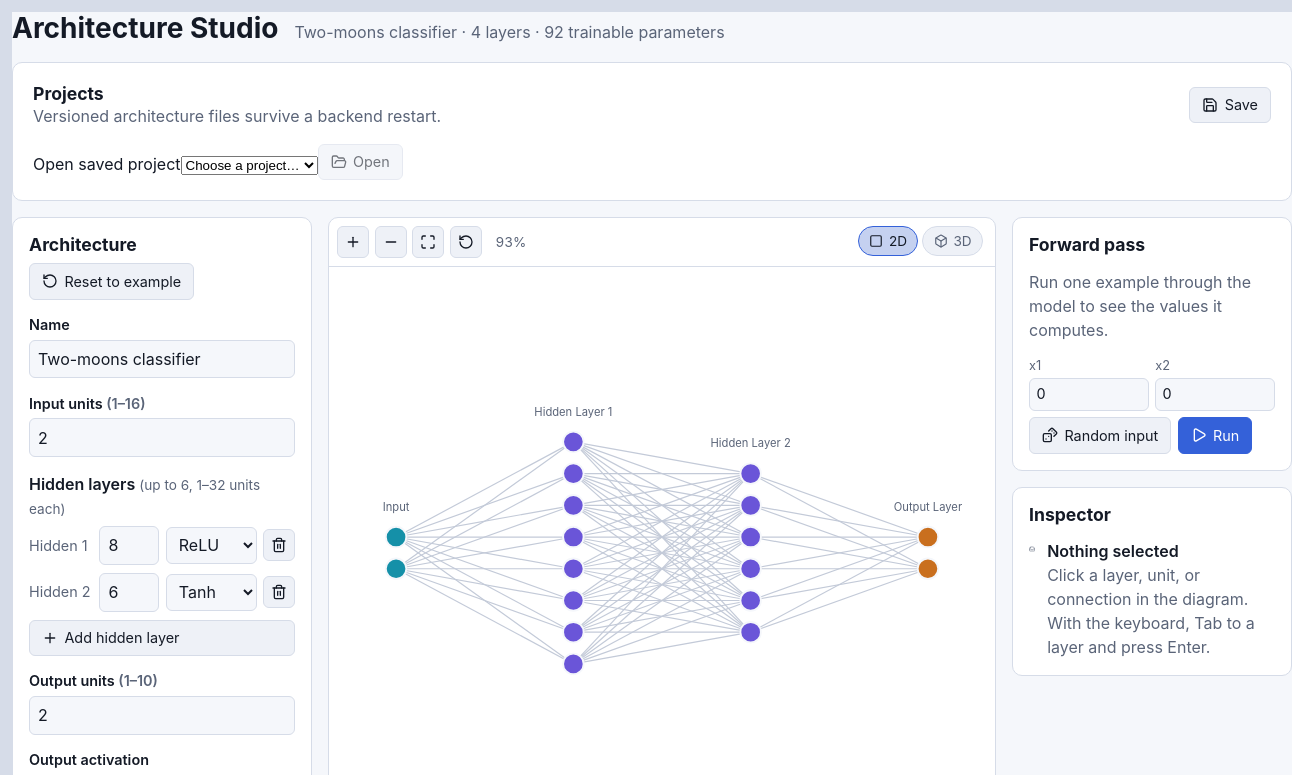
Test case: Architecture Studio › rejects invalid widths without contacting the backend
Expected: the button "Hidden Layer 1, 8 units" is shown, [534,405,612,419]
Replace the text in the 1st number field named "Hidden layer 1 units" with "99" at (129, 545), box [99,526,159,565]
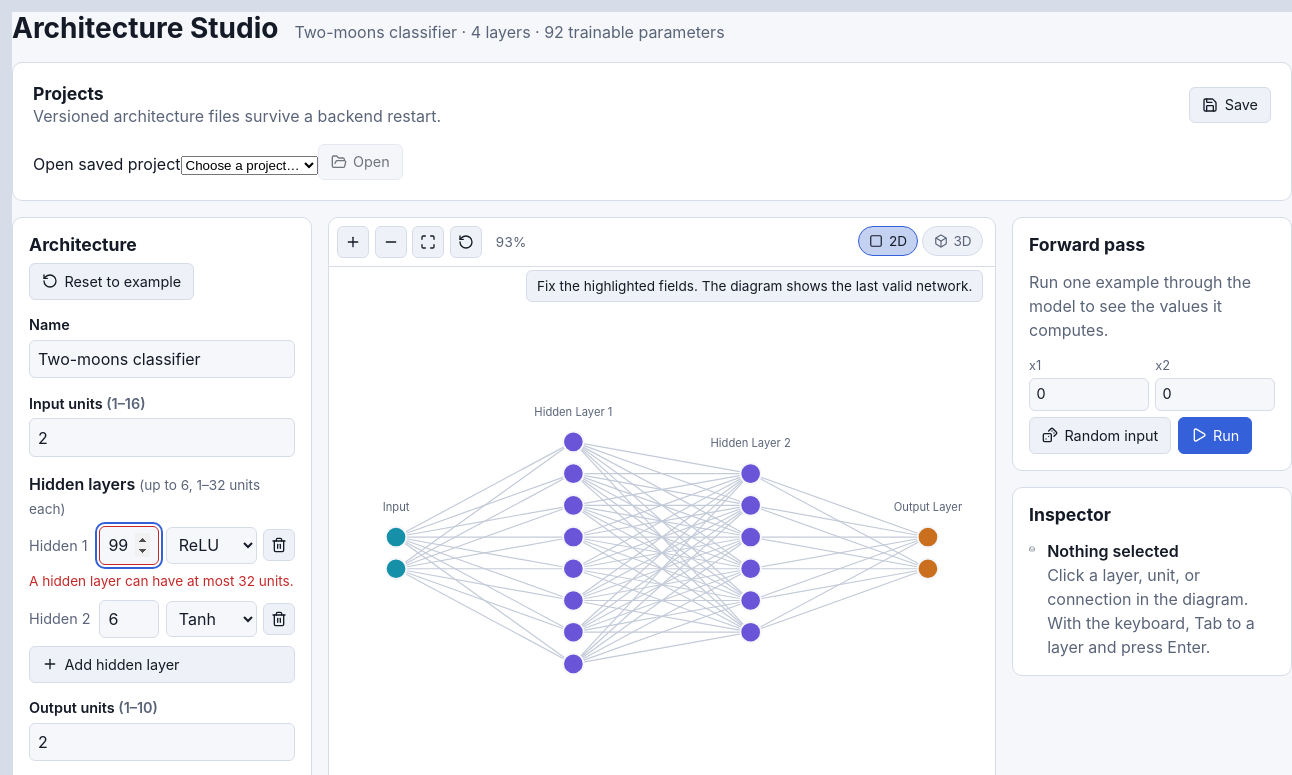
Expected: the text "diagram shows the last valid network" is shown, [537,278,972,294]
Expected: the text "A hidden layer can have at most 32 units." is shown, [29,571,295,592]
